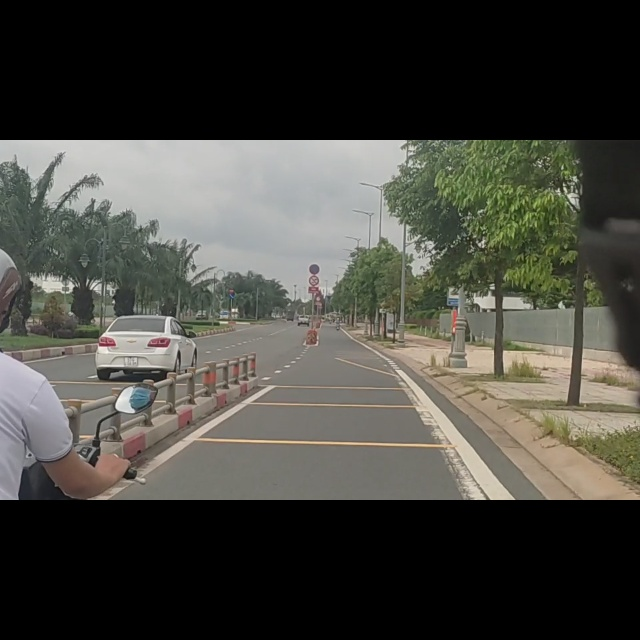bien_cam: (307, 239, 319, 261), (308, 218, 320, 239)
